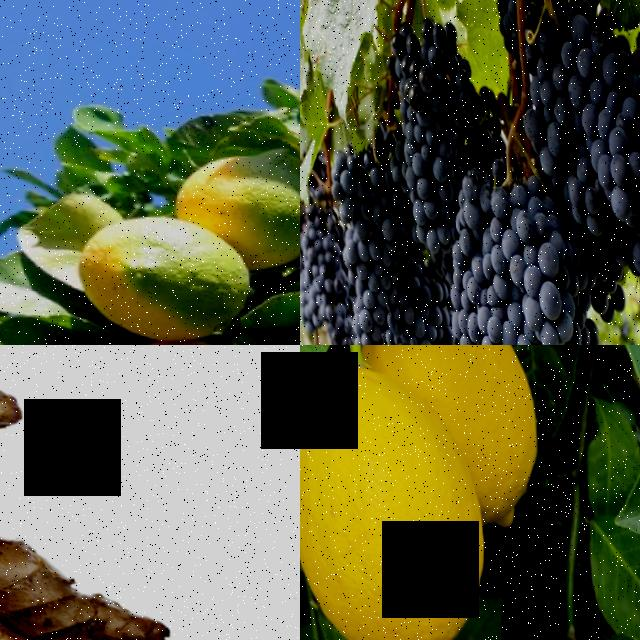ginger: (0, 348, 193, 640)
grapes: (441, 205, 595, 345), (384, 21, 468, 250), (553, 7, 640, 217), (322, 139, 400, 345), (300, 204, 352, 345), (384, 251, 460, 345)
lemon: (300, 372, 476, 640), (67, 212, 237, 340), (167, 133, 300, 250)
